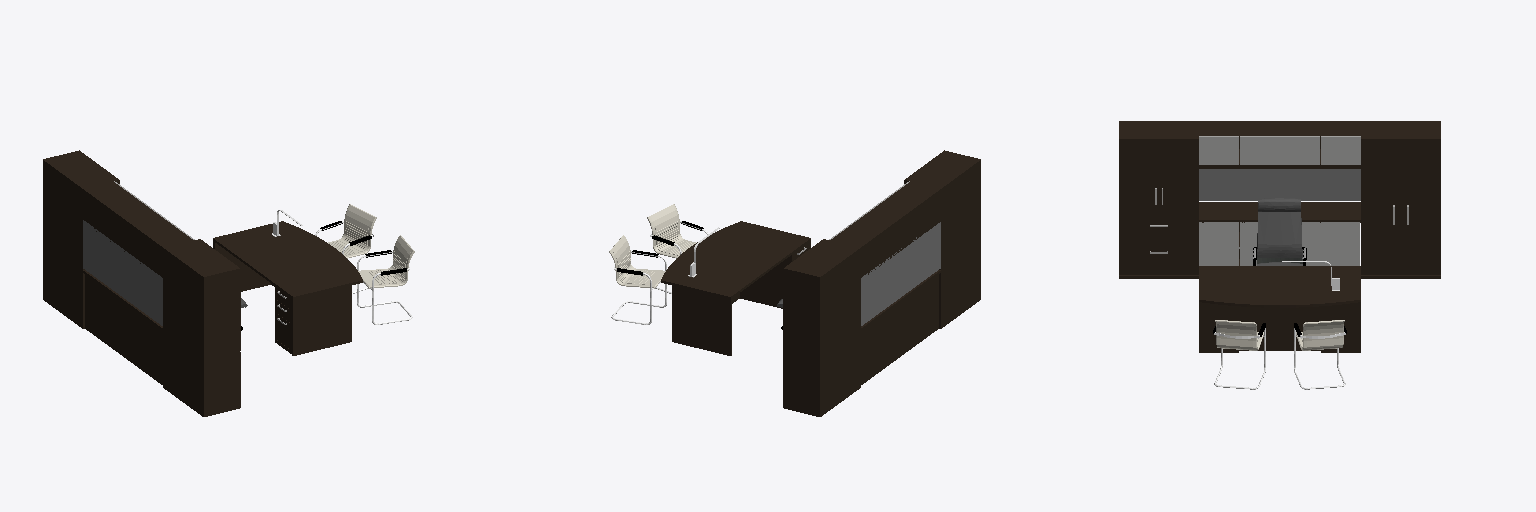
The model's file is 单办公室组合.obj.
3 views of the same model, side by side, from view 1: azimuth 30°, elevation 25°; view 2: azimuth 150°, elevation 25°; view 3: azimuth 270°, elevation 25° (orthographic).
Size of the model in its own units: 3.48 by 1.75 by 3.65.